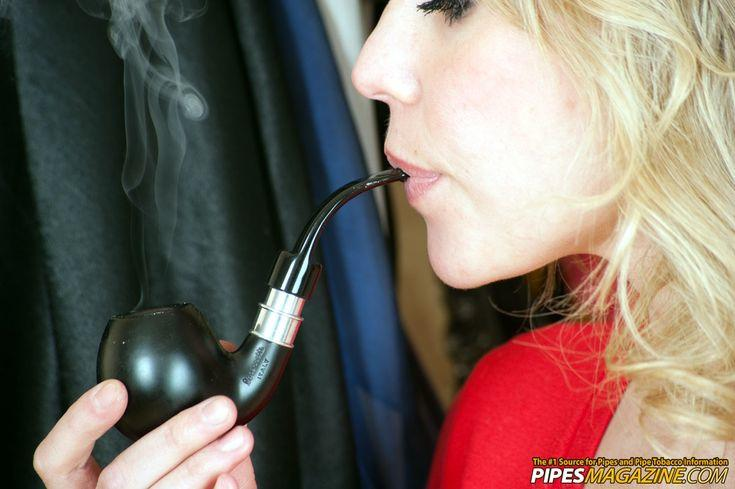trubka: (98, 169, 406, 440)
